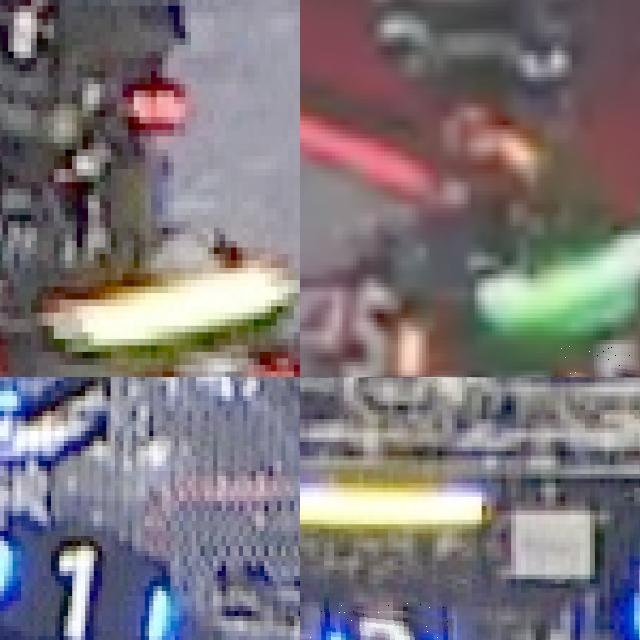B1: (0, 521, 183, 640), (0, 377, 68, 408)
B2: (306, 601, 454, 640)
R5: (318, 269, 433, 377), (557, 344, 640, 377)
